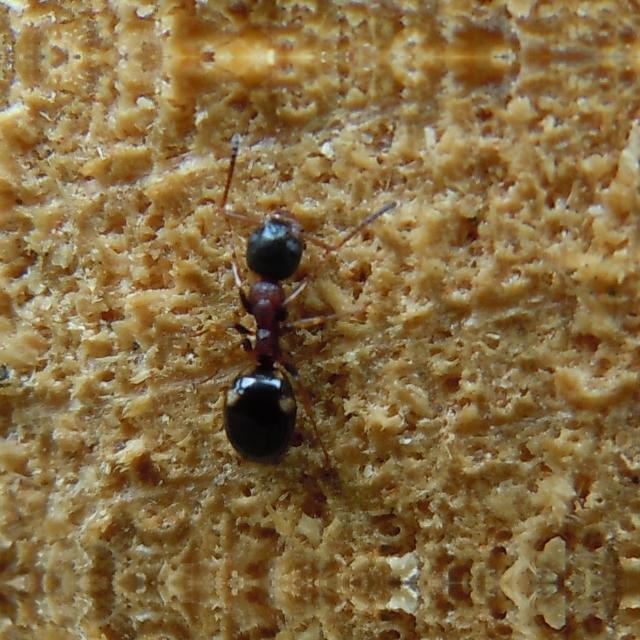Dolichoderus: (172, 171, 366, 487)
